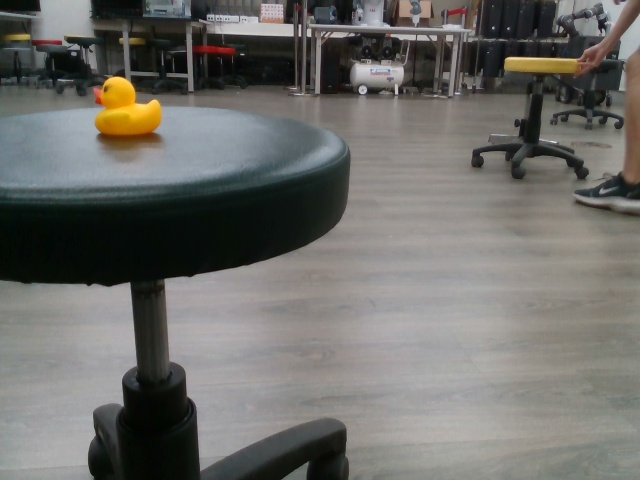duck: (88, 69, 169, 146)
